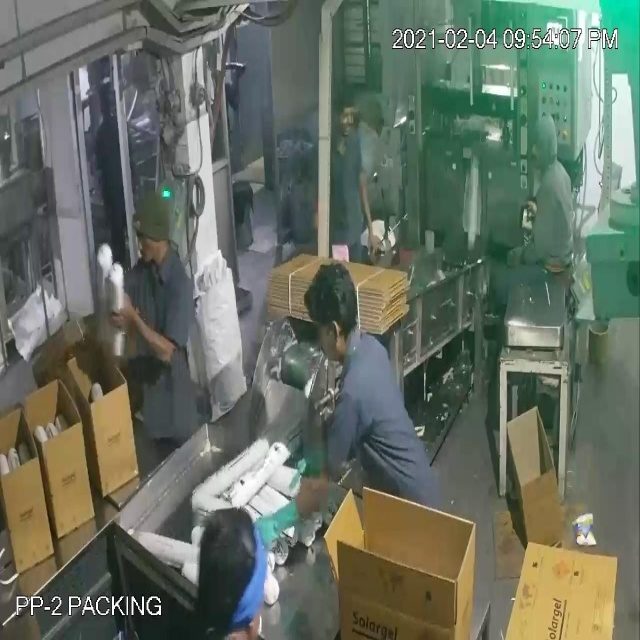Guantes: (236, 498, 311, 566)
Sin_guantes: (112, 265, 180, 380), (353, 158, 379, 263)
